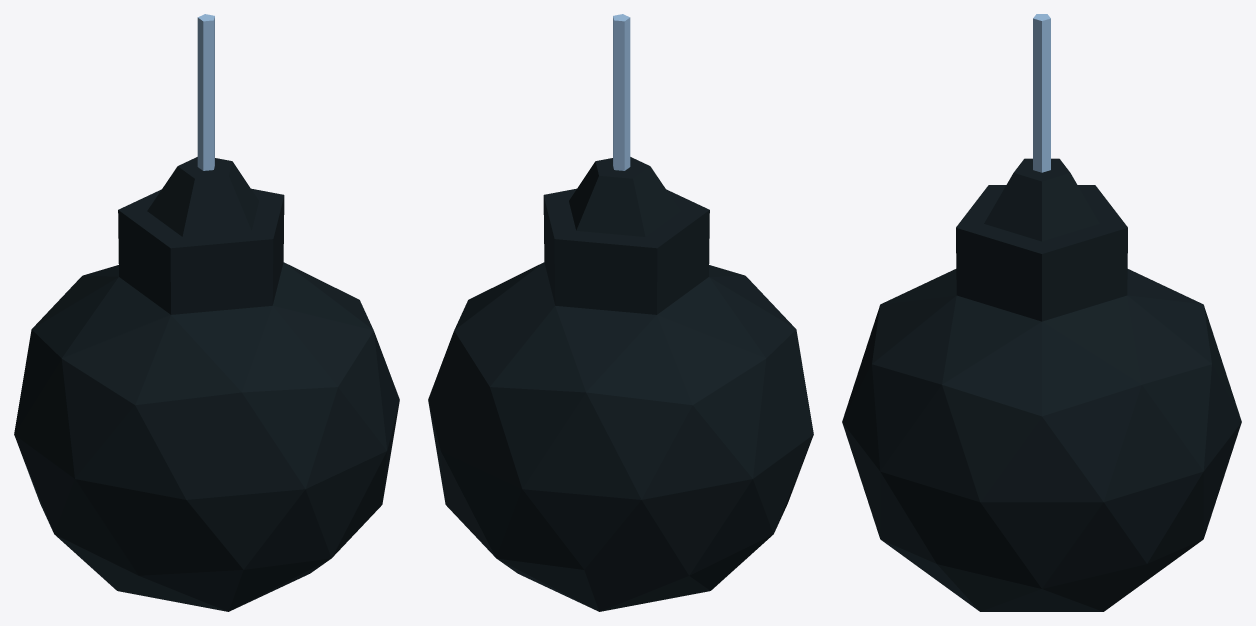
The model's file is bomb.fbx.
3 renders of one model, left to right at view 1: azimuth 30°, elevation 25°; view 2: azimuth 150°, elevation 25°; view 3: azimuth 270°, elevation 25°, orthographic.
Parts seen in each view (by area): view 1: Bomb; view 2: Bomb; view 3: Bomb.
Part boxes in pixels (left/top/right/bottom): Bomb: left=14, top=14, right=399, bottom=611; Bomb: left=428, top=14, right=813, bottom=611; Bomb: left=842, top=14, right=1241, bottom=611.
Bounding box in the file's own units: 190 × 323 × 200.
